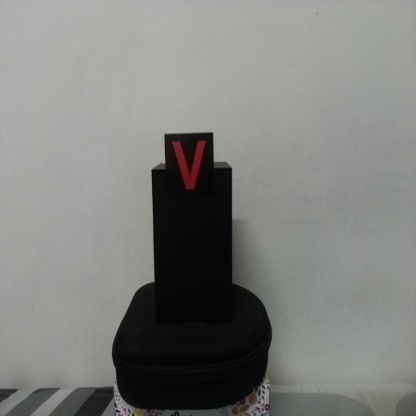id_11: (165, 134, 214, 197)
